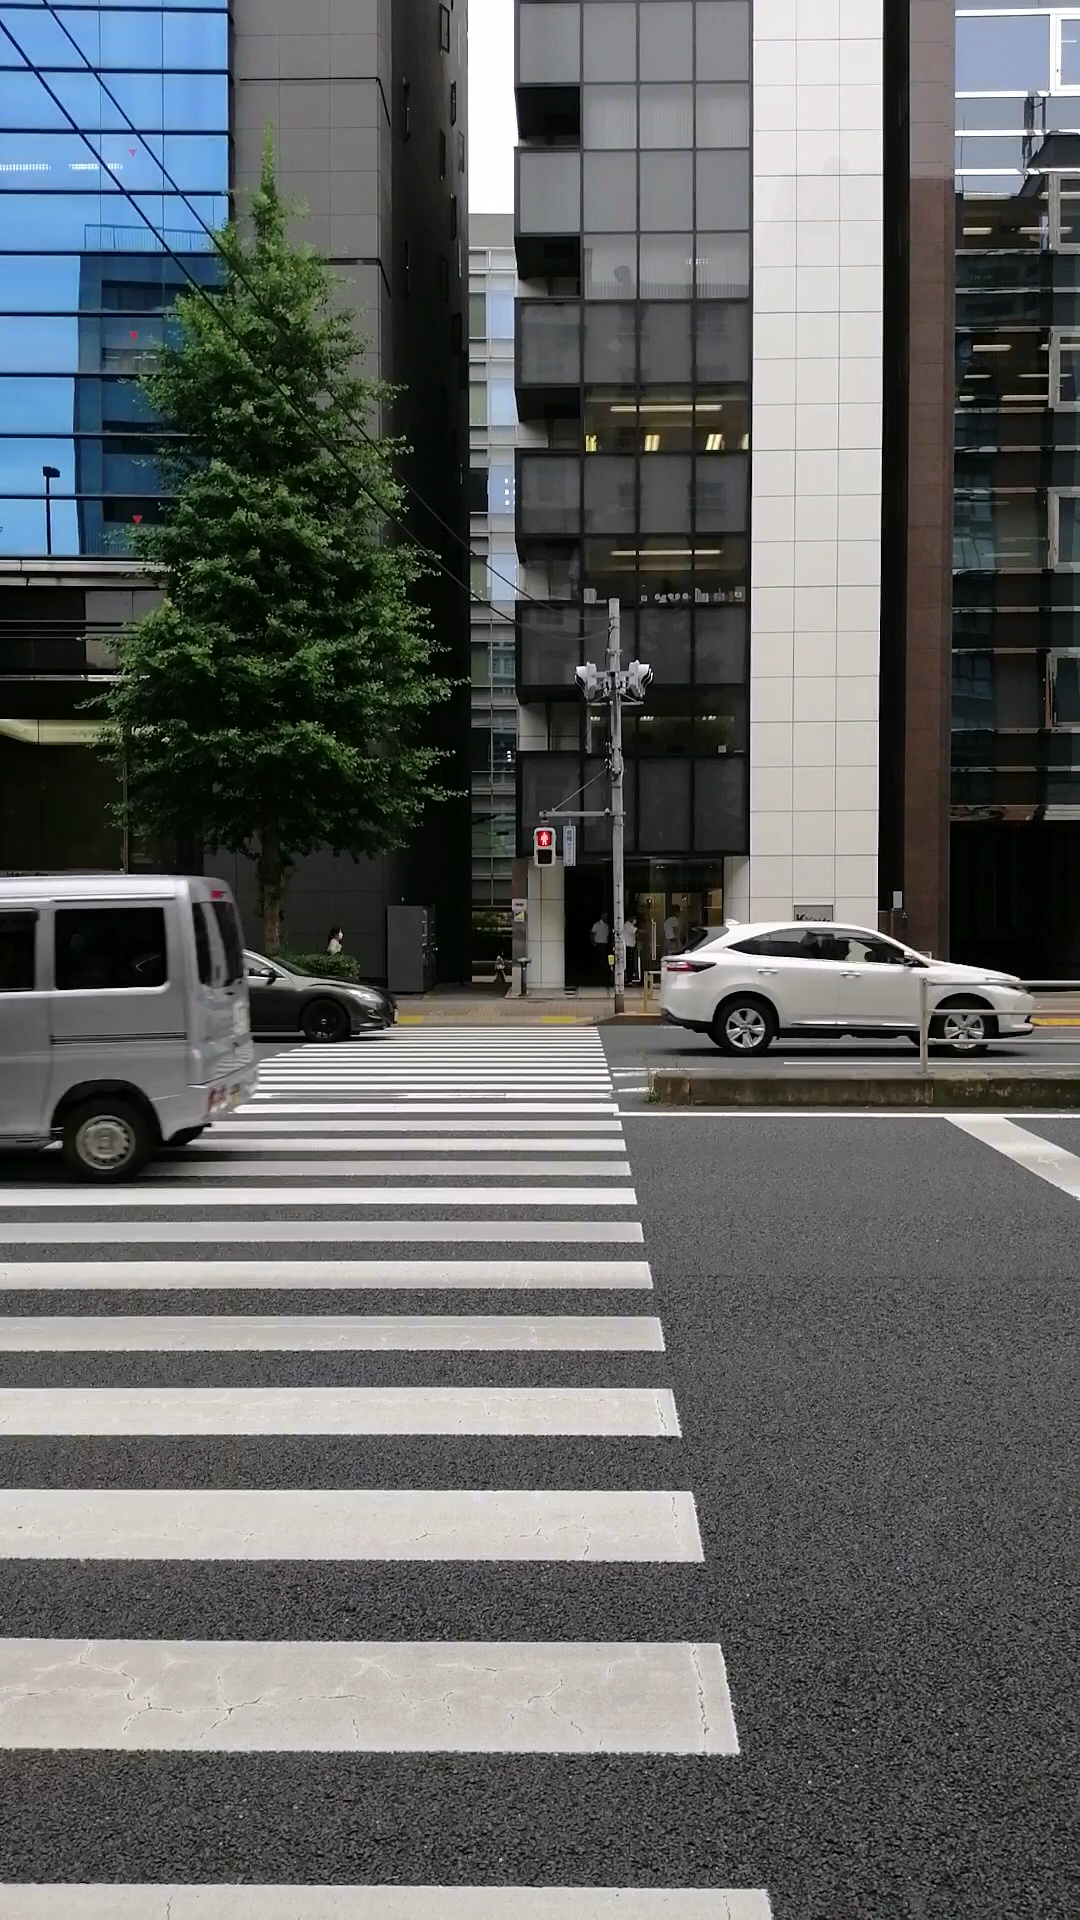red: (531, 825, 556, 866)
